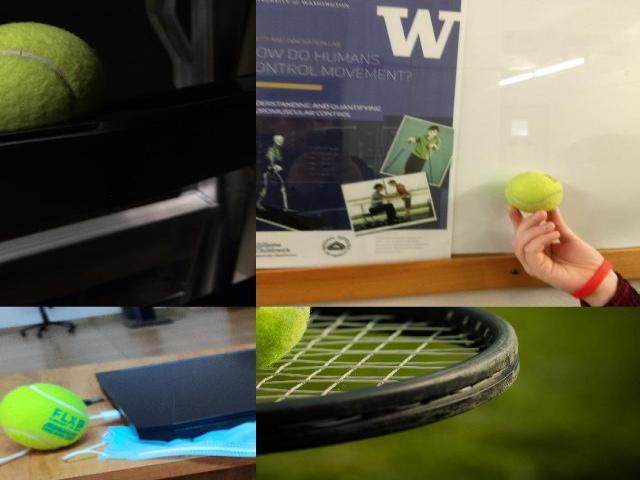tennis-ball: (0, 22, 112, 118), (0, 382, 88, 450), (255, 306, 311, 374), (503, 170, 563, 213)
